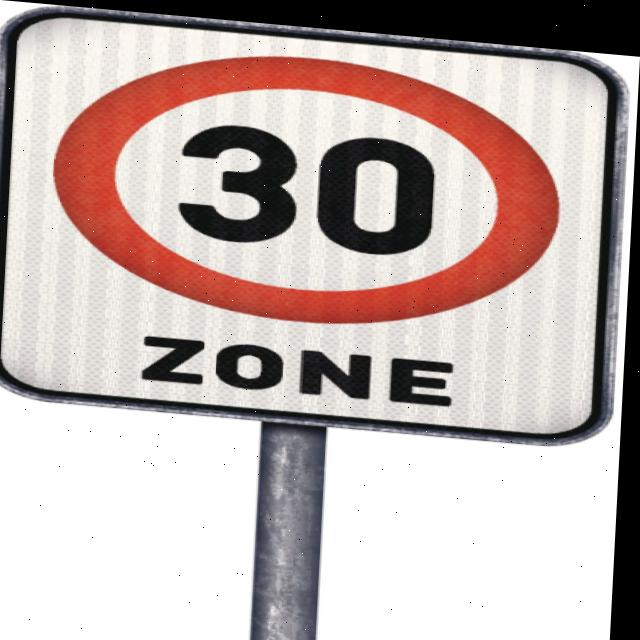Speed limit 30: (48, 32, 570, 336)
